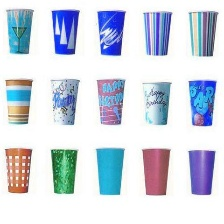paper_cup: (90, 142, 128, 199), (137, 75, 175, 129), (92, 5, 129, 60), (137, 7, 176, 59), (92, 73, 128, 129), (45, 142, 81, 198), (138, 142, 173, 199), (1, 72, 36, 129), (0, 142, 36, 197), (47, 73, 82, 129), (46, 5, 82, 58), (185, 6, 220, 60), (1, 4, 36, 57), (185, 75, 218, 129), (184, 146, 218, 198)
